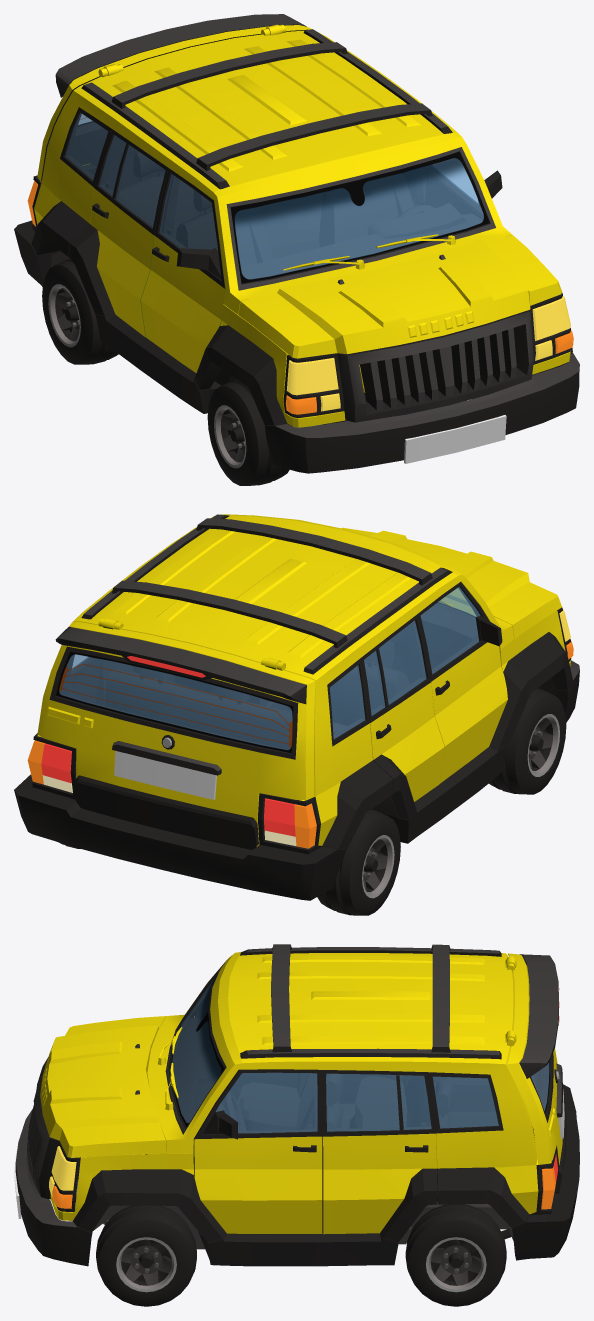
File: Car.glb
3 renders of one model, top to bottom at view 1: azimuth 30°, elevation 25°; view 2: azimuth 150°, elevation 25°; view 3: azimuth 270°, elevation 25°, orthographic. The views are drawn at different scales.
Parts seen in each view (by area): view 1: Body, Bonet, Bumper_F, Grill_F, Doors_RR, Doors_FR, BootLid, Fender_FR, Wheel_FR, Wheel_RR, Headlight_FR, Headlight_FL (+4 smaller); view 2: Body, BootLid, Bumper_R, Doors_FR, Doors_RR, Bonet, Wheel_RR, Fender_FR, Wheel_FR, Light_RR, Light_RL, Bumper_F (+2 smaller); view 3: Body, Doors_FL, Doors_RL, Bonet, BootLid, Wheel_RL, Wheel_FL, Fender_FL, Bumper_F, Bumper_R, Grill_F, Headlight_FL (+4 smaller).
Boxes of the visible parts, bbox=[...] form: Body: bbox=[31, 24, 512, 424]; Bonet: bbox=[238, 235, 562, 358]; Bumper_F: bbox=[265, 353, 579, 473]; Grill_F: bbox=[337, 310, 533, 422]; Doors_RR: bbox=[69, 129, 168, 337]; Doors_FR: bbox=[140, 168, 225, 373]; BootLid: bbox=[37, 14, 311, 190]; Fender_FR: bbox=[194, 304, 345, 427]; Wheel_FR: bbox=[207, 379, 292, 485]; Wheel_RR: bbox=[42, 259, 118, 364]; Headlight_FR: bbox=[283, 353, 344, 418]; Headlight_FL: bbox=[530, 293, 573, 364]; Body: bbox=[37, 514, 514, 850]; BootLid: bbox=[37, 618, 315, 849]; Bumper_R: bbox=[14, 774, 346, 900]; Doors_FR: bbox=[418, 582, 507, 783]; Doors_RR: bbox=[361, 614, 444, 820]; Bonet: bbox=[342, 527, 561, 638]; Wheel_RR: bbox=[317, 809, 400, 915]; Fender_FR: bbox=[489, 611, 572, 747]; Wheel_FR: bbox=[489, 688, 566, 794]; Light_RR: bbox=[257, 793, 320, 854]; Light_RL: bbox=[27, 733, 76, 799]; Bumper_F: bbox=[538, 660, 579, 722]; Body: bbox=[72, 944, 551, 1266]; Doors_FL: bbox=[194, 1069, 322, 1233]; Doors_RL: bbox=[322, 1070, 436, 1242]; Bonet: bbox=[40, 1016, 167, 1157]; BootLid: bbox=[505, 953, 566, 1193]; Wheel_RL: bbox=[405, 1204, 506, 1306]; Wheel_FL: bbox=[96, 1205, 196, 1306]; Fender_FL: bbox=[50, 1153, 226, 1242]; Bumper_F: bbox=[14, 1109, 92, 1266]; Bumper_R: bbox=[512, 1084, 579, 1260]; Grill_F: bbox=[27, 1057, 59, 1199]; Headlight_FL: bbox=[49, 1141, 80, 1212].
Size of the model in its own units: 1.29 by 1.02 by 2.08.
Materials: 5 (4 with a texture image).
